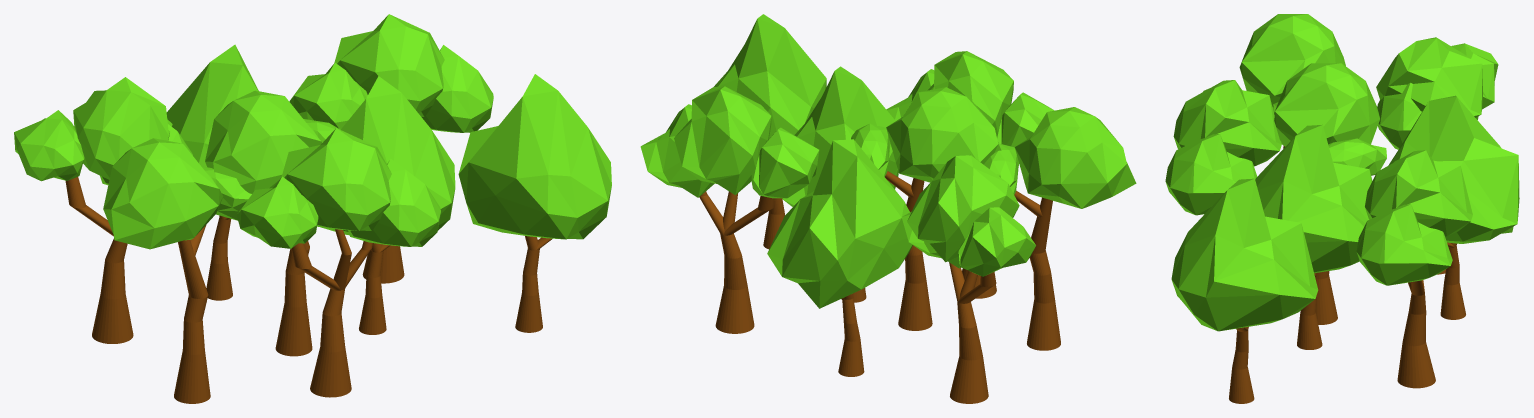
The model's file is SM_Generic_Tree_Patch_02.fbx.
3 renders of one model, left to right at view 1: azimuth 30°, elevation 25°; view 2: azimuth 150°, elevation 25°; view 3: azimuth 270°, elevation 25°, orthographic. The views are drawn at different scales.
Parts seen in each view (by area): view 1: Icosphere.014, Icosphere.006, Icosphere.003, Icosphere, Icosphere.002, Icosphere.011, Icosphere.009, Cylinder.002, Icosphere.008, Icosphere.004, Icosphere.005, Cylinder.003 (+10 smaller); view 2: Icosphere.008, Icosphere.006, Icosphere.011, Icosphere.014, Icosphere, Icosphere.009, Icosphere.002, Cylinder.006, Cylinder.005, Icosphere.010, Icosphere.003, Icosphere.013 (+10 smaller); view 3: Icosphere.014, Icosphere.002, Icosphere.008, Icosphere, Icosphere.011, Icosphere.003, Icosphere.006, Icosphere.012, Icosphere.009, Icosphere.004, Cylinder.006, Icosphere.015 (+6 smaller).
Boxes of the visible parts, <box> form: Icosphere.014: <box>458,74,611,239</box>; Icosphere.006: <box>103,138,223,249</box>; Icosphere.003: <box>281,128,391,230</box>; Icosphere: <box>205,90,321,193</box>; Icosphere.002: <box>321,76,455,235</box>; Icosphere.011: <box>334,14,444,116</box>; Icosphere.009: <box>73,77,172,179</box>; Cylinder.002: <box>291,229,372,397</box>; Icosphere.008: <box>166,44,258,167</box>; Icosphere.004: <box>348,159,440,246</box>; Icosphere.005: <box>236,176,318,248</box>; Cylinder.003: <box>174,224,210,403</box>; Icosphere.008: <box>767,139,912,308</box>; Icosphere.006: <box>1014,107,1136,208</box>; Icosphere.011: <box>674,86,771,195</box>; Icosphere.014: <box>714,14,826,138</box>; Icosphere: <box>886,87,1001,182</box>; Icosphere.009: <box>907,154,1019,262</box>; Icosphere.002: <box>782,66,898,206</box>; Cylinder.006: <box>699,191,774,333</box>; Cylinder.005: <box>949,262,996,403</box>; Icosphere.010: <box>958,207,1035,276</box>; Icosphere.003: <box>927,51,1013,134</box>; Icosphere.013: <box>751,127,819,198</box>; Icosphere.014: <box>1171,178,1318,331</box>; Icosphere.002: <box>1255,124,1372,273</box>; Icosphere.008: <box>1388,95,1519,243</box>; Icosphere: <box>1274,63,1379,146</box>; Icosphere.011: <box>1365,150,1472,236</box>; Icosphere.003: <box>1173,80,1281,166</box>; Icosphere.006: <box>1239,14,1345,112</box>; Icosphere.012: <box>1356,204,1452,285</box>; Icosphere.009: <box>1376,37,1482,119</box>; Icosphere.004: <box>1165,134,1257,215</box>; Cylinder.006: <box>1397,280,1435,388</box>; Icosphere.015: <box>1377,82,1421,149</box>.
Size of the model in its own units: 1253 by 676 by 891.
